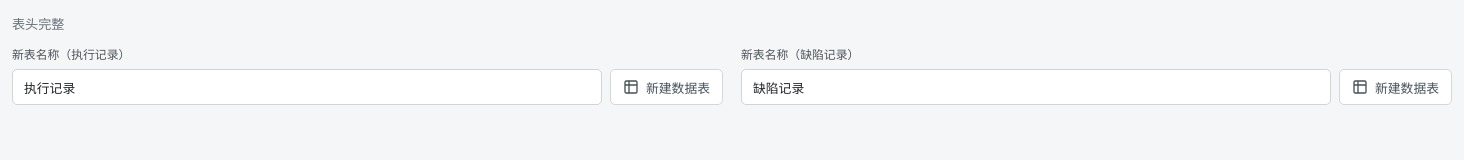
creates a role's table with its default name and hands the new table back
expect the text "表头完整" is shown: met, box x1=12 y1=16 x2=64 y2=32
expect the field labelled "新表名称（缺陷记录）" holds "缺陷记录": met, box x1=741 y1=69 x2=1331 y2=105
Click the button with aria-label "新建缺陷记录数据表" at coordinates (1396, 87), box x1=1339 y1=69 x2=1452 y2=105
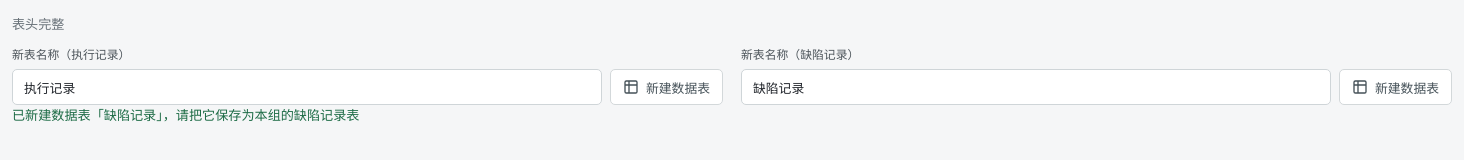
expect the text "已新建数据表「缺陷记录」" is shown: met, box x1=12 y1=107 x2=359 y2=123
